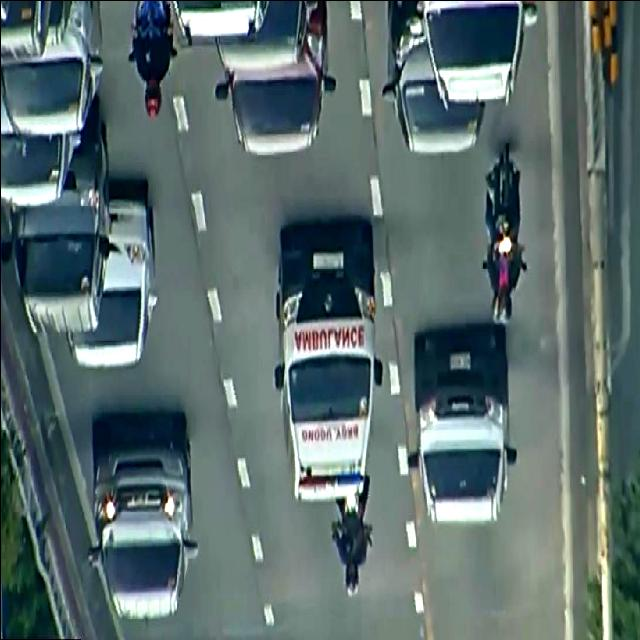emergency: (266, 210, 386, 502)
